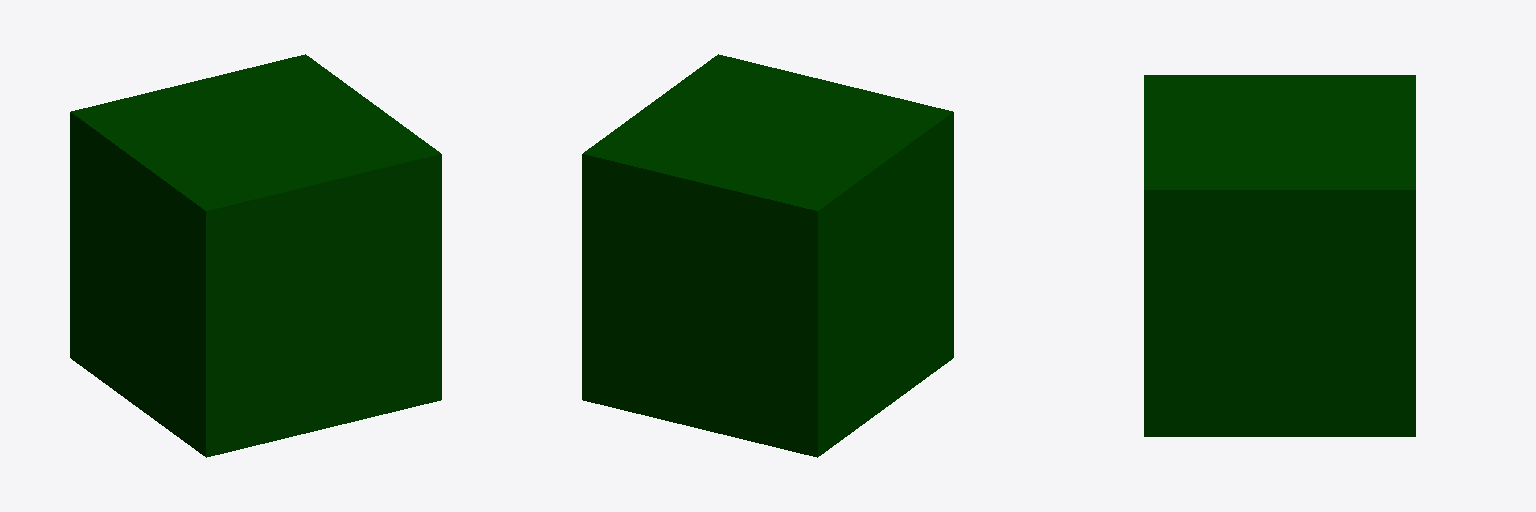
File: ground.obj
The picture shows the model from 3 angles: view 1: azimuth 30°, elevation 25°; view 2: azimuth 150°, elevation 25°; view 3: azimuth 270°, elevation 25°; orthographic projection.
Parts seen in each view (by area): view 1: Cube_Cube.001; view 2: Cube_Cube.001; view 3: Cube_Cube.001.
Boxes of the visible parts, x1=… form: Cube_Cube.001: x1=70, y1=54, x2=441, y2=457; Cube_Cube.001: x1=582, y1=54, x2=953, y2=457; Cube_Cube.001: x1=1144, y1=75, x2=1415, y2=436.
Size of the model in its own units: 2 by 2 by 2.